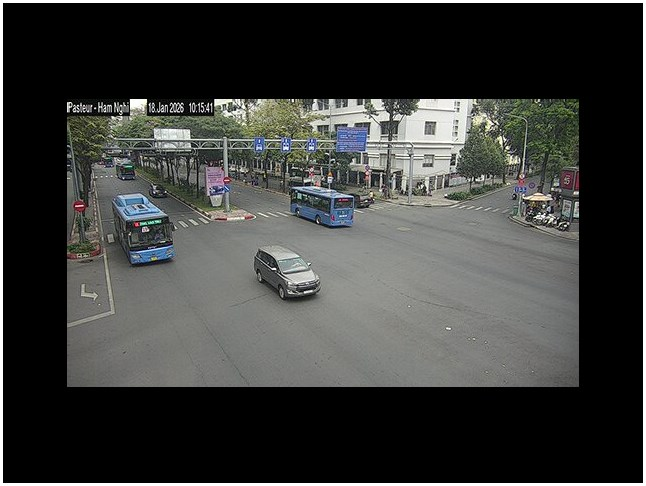bus: (111, 192, 176, 266), (289, 185, 355, 228)
car: (253, 243, 321, 300)
